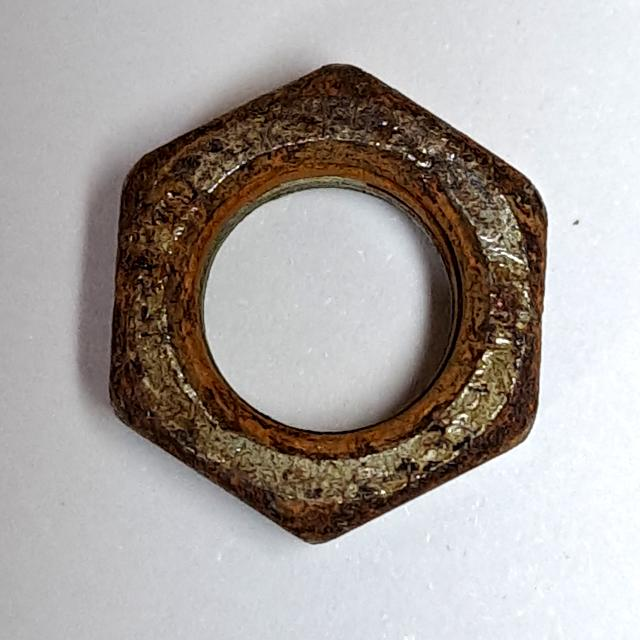Rust: (94, 38, 564, 561)
